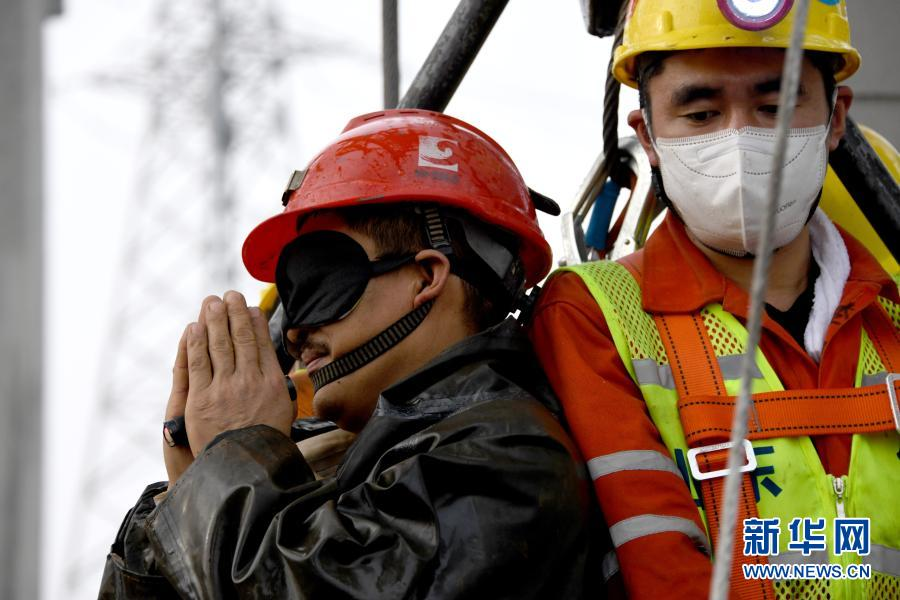helmet: (244, 126, 560, 376)
